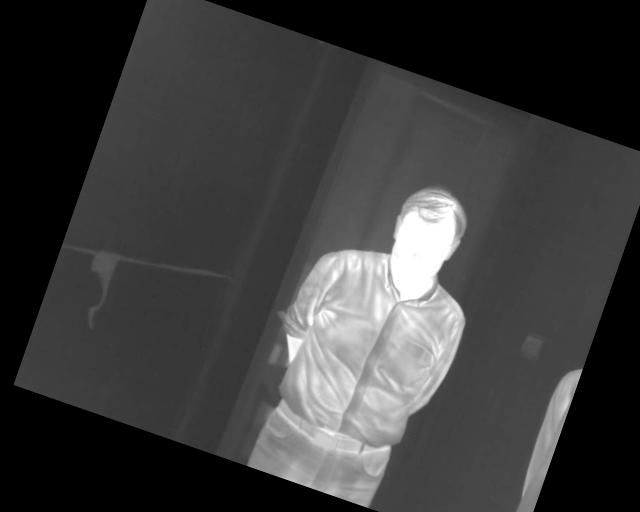face: (375, 175, 477, 300)
